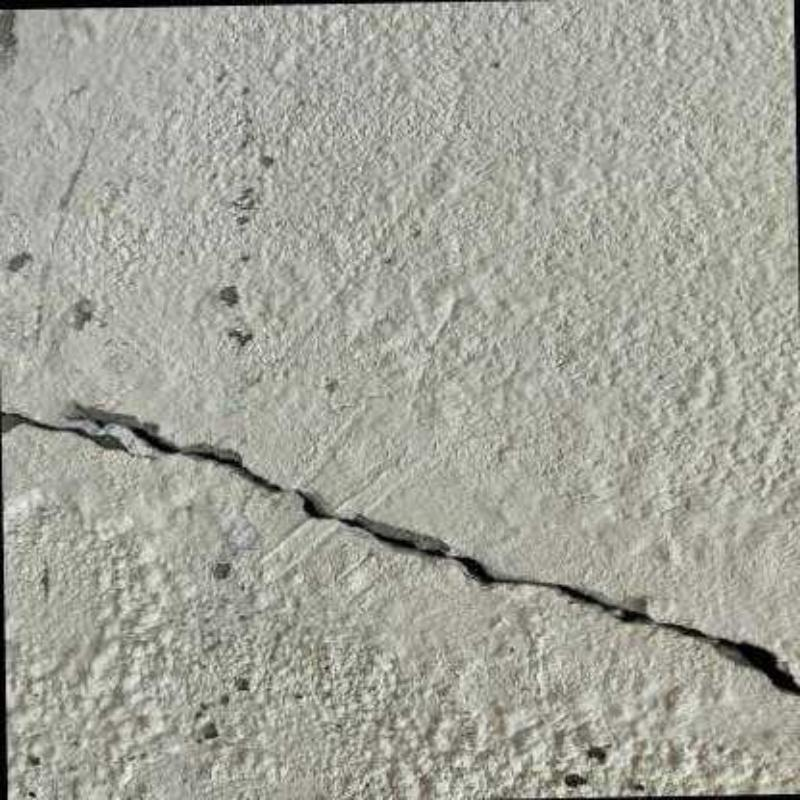crack: (0, 401, 800, 695)
